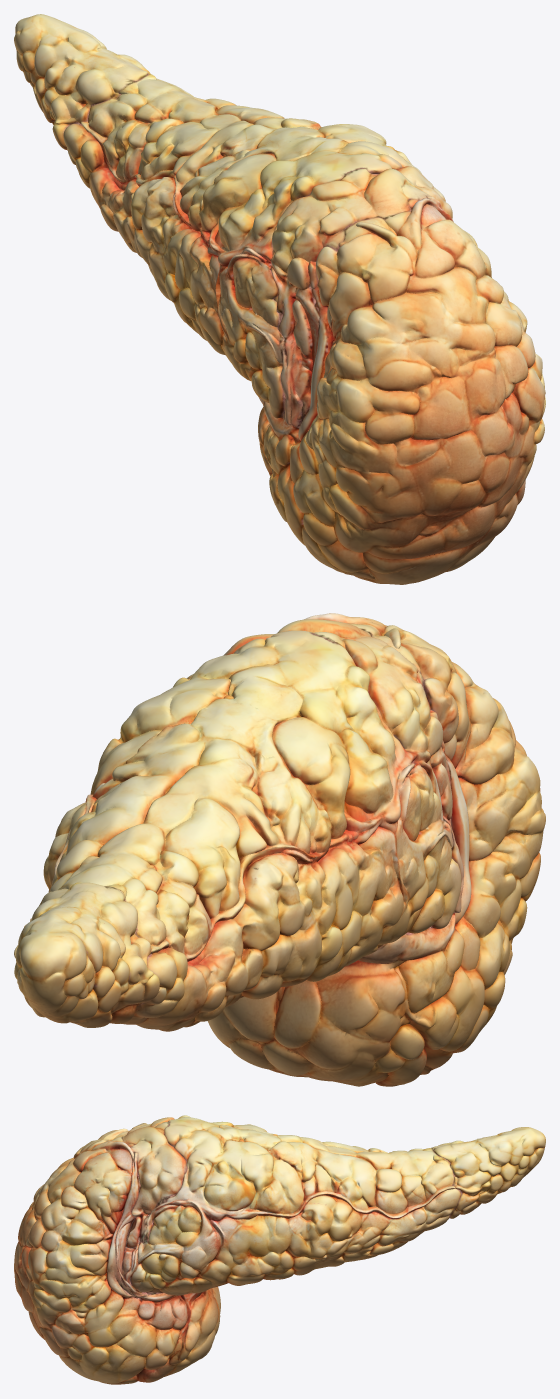
Rendered from organ-pancreas.glb.
The picture shows the model from 3 angles, top to bottom: view 1: azimuth 30°, elevation 25°; view 2: azimuth 150°, elevation 25°; view 3: azimuth 270°, elevation 25°; orthographic projection. The views are drawn at different scales.
Visible parts, largest first — view 1: part_2, part_3, part_1, part_0; view 2: part_3, part_2, part_0, part_1; view 3: part_3, part_2, part_0, part_1.
Part boxes in pixels (<box>): part_2: <box>258,196,545,584</box>; part_3: <box>63,73,421,418</box>; part_1: <box>271,166,452,427</box>; part_0: <box>14,14,150,150</box>; part_3: <box>24,630,461,1031</box>; part_2: <box>207,613,545,1086</box>; part_0: <box>14,882,159,1027</box>; part_1: <box>223,619,463,912</box>; part_3: <box>121,1115,461,1298</box>; part_2: <box>14,1128,220,1384</box>; part_0: <box>432,1127,545,1218</box>; part_1: <box>122,1117,186,1248</box>.
Bounding box in the file's own units: 0.6268 × 0.9805 × 1.9.
Materials: 4 (4 with a texture image).
